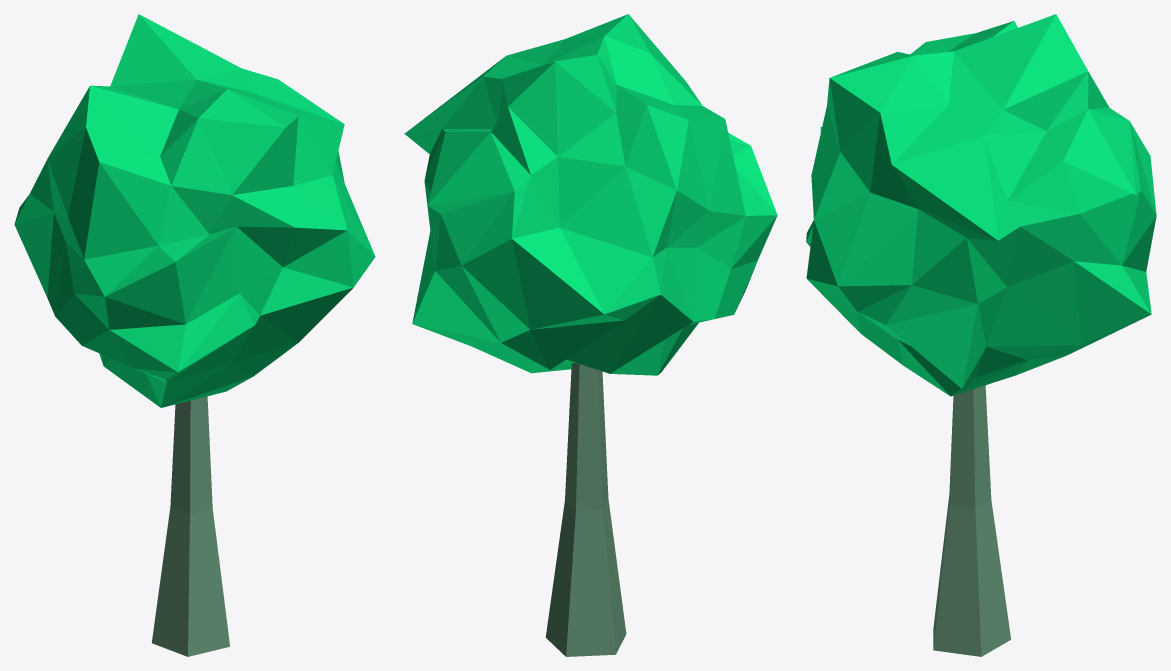
Rendered from tree 3 improved 1.FBX.
3 views of the same model, side by side, from view 1: azimuth 30°, elevation 25°; view 2: azimuth 150°, elevation 25°; view 3: azimuth 270°, elevation 25° (orthographic). The views are drawn at different scales.
Parts seen in each view (by area): view 1: tree 3; view 2: tree 3; view 3: tree 3.
Boxes of the visible parts, x1,y1,x2,y2 form: tree 3: [14, 14, 375, 656]; tree 3: [404, 14, 777, 656]; tree 3: [806, 14, 1156, 656].
Size of the model in its own units: 15.23 by 29.03 by 14.87.
